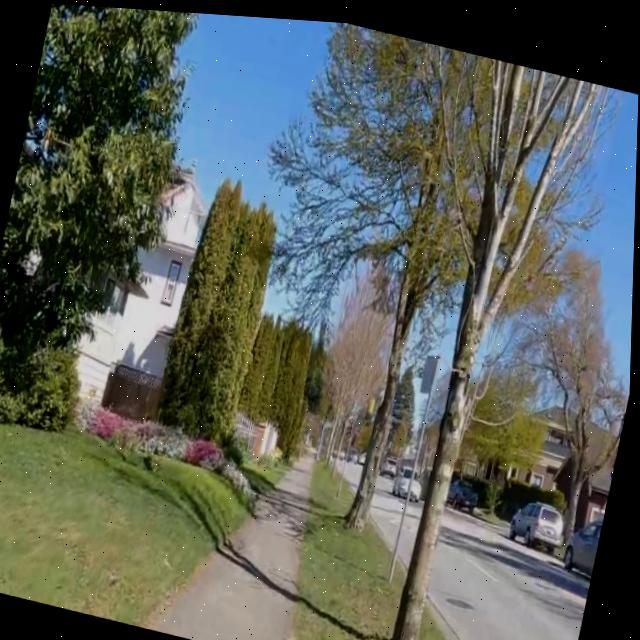Automobile: (565, 503, 607, 569), (513, 494, 565, 544), (449, 468, 480, 504), (395, 460, 423, 494)
Road: (431, 501, 594, 640), (432, 505, 594, 640), (375, 485, 404, 540)
Sidewalk: (151, 452, 316, 640)
